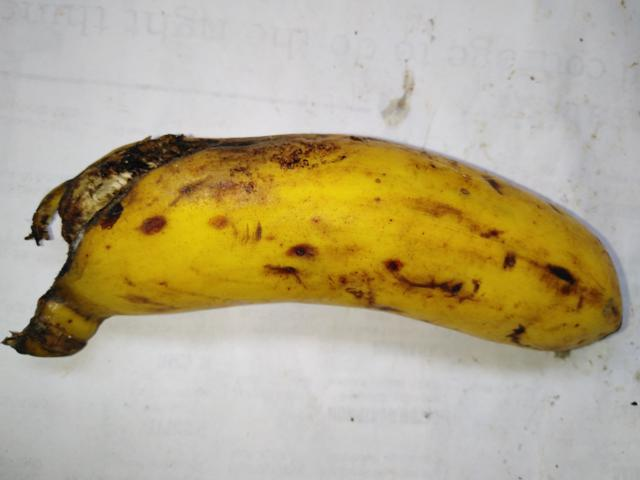ripe: (179, 100, 639, 390)
rotten: (20, 109, 278, 306)
